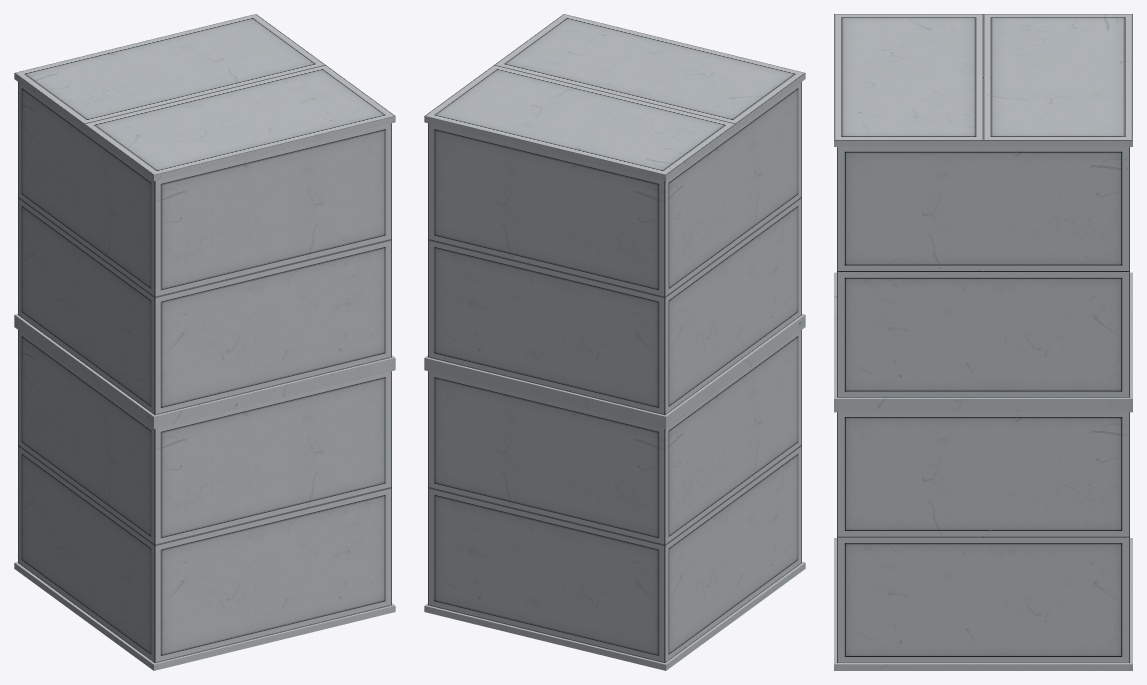
The model's file is Duct_01_Straight_4m.FBX.
3 views of the same model, side by side, from view 1: azimuth 30°, elevation 25°; view 2: azimuth 150°, elevation 25°; view 3: azimuth 270°, elevation 25° (orthographic). The views are drawn at different scales.
Parts seen in each view (by area): view 1: Duct_01_Straight_4m; view 2: Duct_01_Straight_4m; view 3: Duct_01_Straight_4m.
Boxes of the visible parts, x1,y1,x2,y2 form: Duct_01_Straight_4m: (14, 14, 395, 670); Duct_01_Straight_4m: (424, 14, 805, 670); Duct_01_Straight_4m: (834, 14, 1132, 670).
Size of the model in its own units: 2.04 by 4 by 2.04.
1 material, 1 textured.
